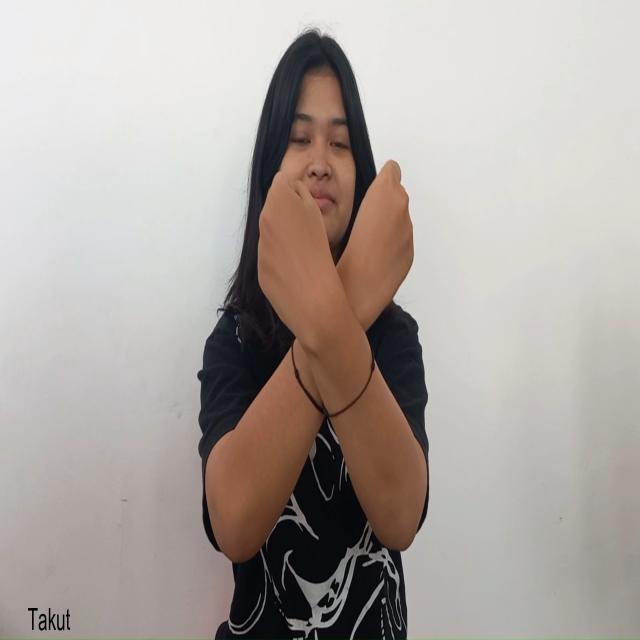Takut -BISINDO-: (255, 156, 416, 397)
